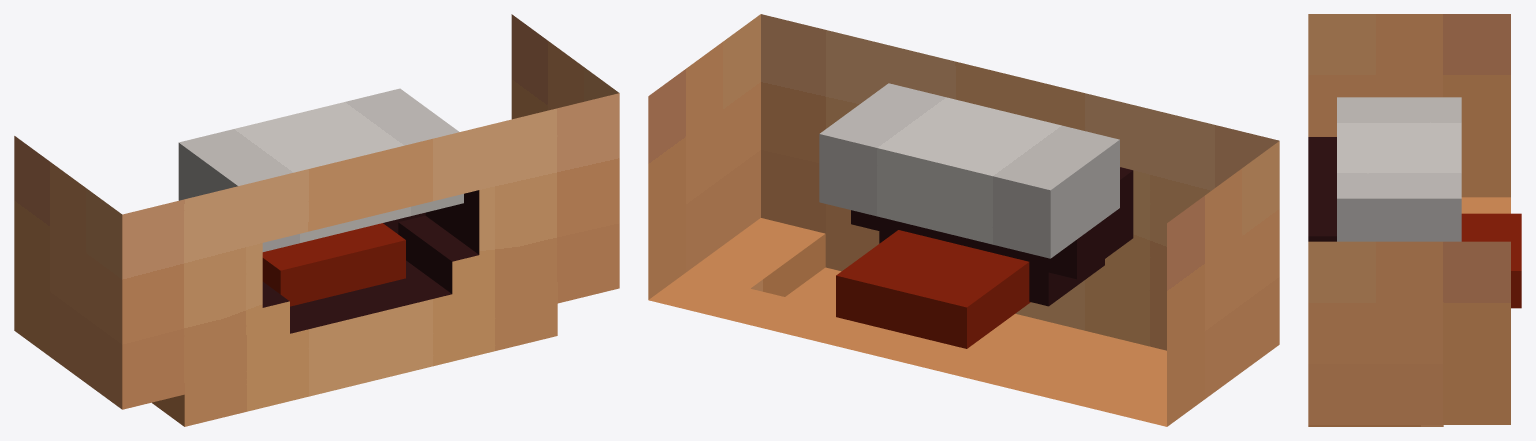
Rendered from skM1_jesse_mouthI.glb.
The picture shows the model from 3 angles, left to right: view 1: azimuth 30°, elevation 25°; view 2: azimuth 150°, elevation 25°; view 3: azimuth 270°, elevation 25°; orthographic projection. The views are drawn at different scales.
Parts seen in each view (by area): view 1: skM1_jesse; view 2: skM1_jesse; view 3: skM1_jesse.
Part boxes in pixels (box(x1,y1,x2,y2)): skM1_jesse: box(14, 14, 619, 426); skM1_jesse: box(648, 14, 1279, 426); skM1_jesse: box(1308, 14, 1521, 426).
Bounding box in the file's own units: 0.5012 × 0.2194 × 0.1986.
Materials: 1 (1 with a texture image).
